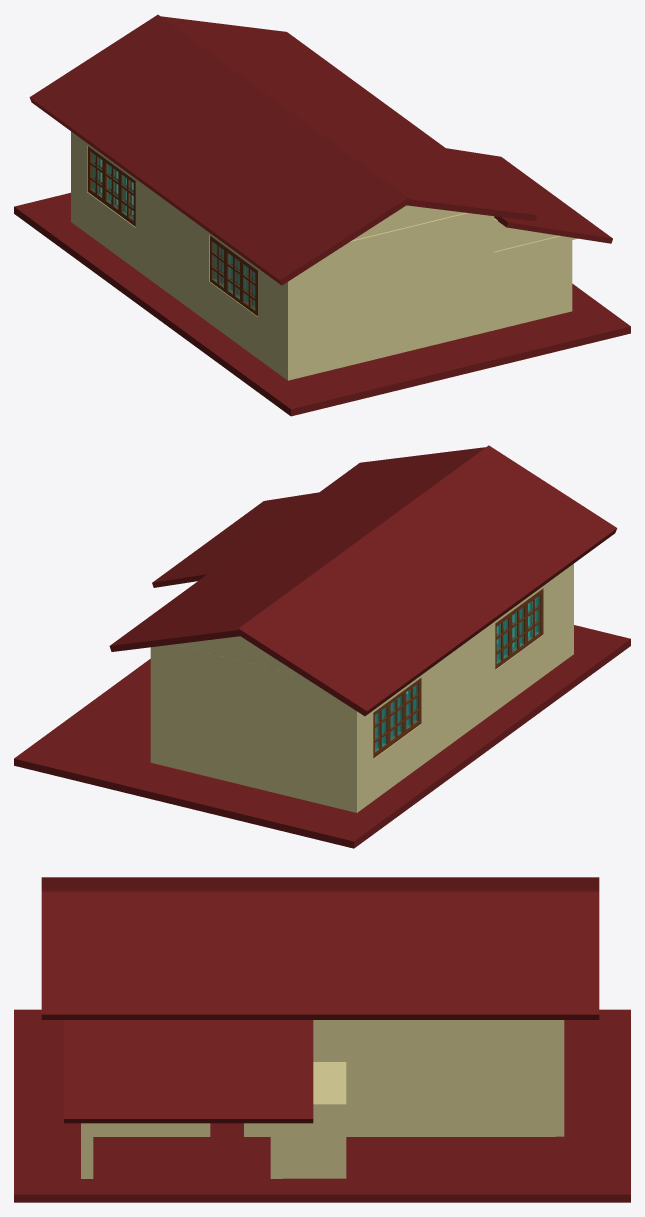
File: sportCenter 1.fbx
3 views of the same model, one above another, from view 1: azimuth 30°, elevation 25°; view 2: azimuth 150°, elevation 25°; view 3: azimuth 270°, elevation 25° (orthographic). The views are drawn at different scales.
Parts seen in each view (by area): view 1: pCube7, pCube1, pCube12, pCube8, pCube25, pCube10, pCube11, pCube40, pCube32, pCube17, pCube19, pCube2; view 2: pCube7, pCube12, pCube2, pCube8, pCube25, pCube11, pCube18, pCube40, pCube32, pCube1; view 3: pCube8, pCube12, pCube45, pCube11, pCube7, pCube14, pCube2, pCube10, pCube9.
Boxes of the visible parts, x1=… form: pCube7: x1=29, y1=14, x2=410, y2=285; pCube1: x1=279, y1=212, x2=494, y2=380; pCube12: x1=14, y1=192, x2=630, y2=416; pCube8: x1=161, y1=16, x2=537, y2=221; pCube25: x1=79, y1=137, x2=279, y2=374; pCube10: x1=494, y1=235, x2=572, y2=330; pCube11: x1=446, y1=148, x2=612, y2=243; pCube40: x1=87, y1=146, x2=135, y2=226; pCube32: x1=210, y1=236, x2=257, y2=316; pCube17: x1=352, y1=205, x2=465, y2=240; pCube19: x1=494, y1=218, x2=577, y2=251; pCube2: x1=71, y1=131, x2=133, y2=227; pCube7: x1=236, y1=445, x2=617, y2=716; pCube12: x1=14, y1=625, x2=630, y2=848; pCube2: x1=150, y1=644, x2=365, y2=812; pCube8: x1=109, y1=447, x2=485, y2=651; pCube25: x1=365, y1=570, x2=565, y2=806; pCube11: x1=152, y1=492, x2=318, y2=587; pCube18: x1=173, y1=636, x2=301, y2=675; pCube40: x1=373, y1=678, x2=421, y2=758; pCube32: x1=495, y1=589, x2=542, y2=669; pCube1: x1=497, y1=564, x2=573, y2=659; pCube8: x1=41, y1=892, x2=599, y2=1019; pCube12: x1=14, y1=1009, x2=630, y2=1202; pCube45: x1=93, y1=1020, x2=556, y2=1136; pCube11: x1=64, y1=1020, x2=313, y2=1123; pCube7: x1=41, y1=877, x2=599, y2=892; pCube14: x1=281, y1=1062, x2=346, y2=1178; pCube2: x1=556, y1=1020, x2=564, y2=1136; pCube10: x1=81, y1=1123, x2=93, y2=1178; pCube9: x1=270, y1=1123, x2=282, y2=1178.
Bounding box in the file's own units: 98.66 × 48.7 × 137.
